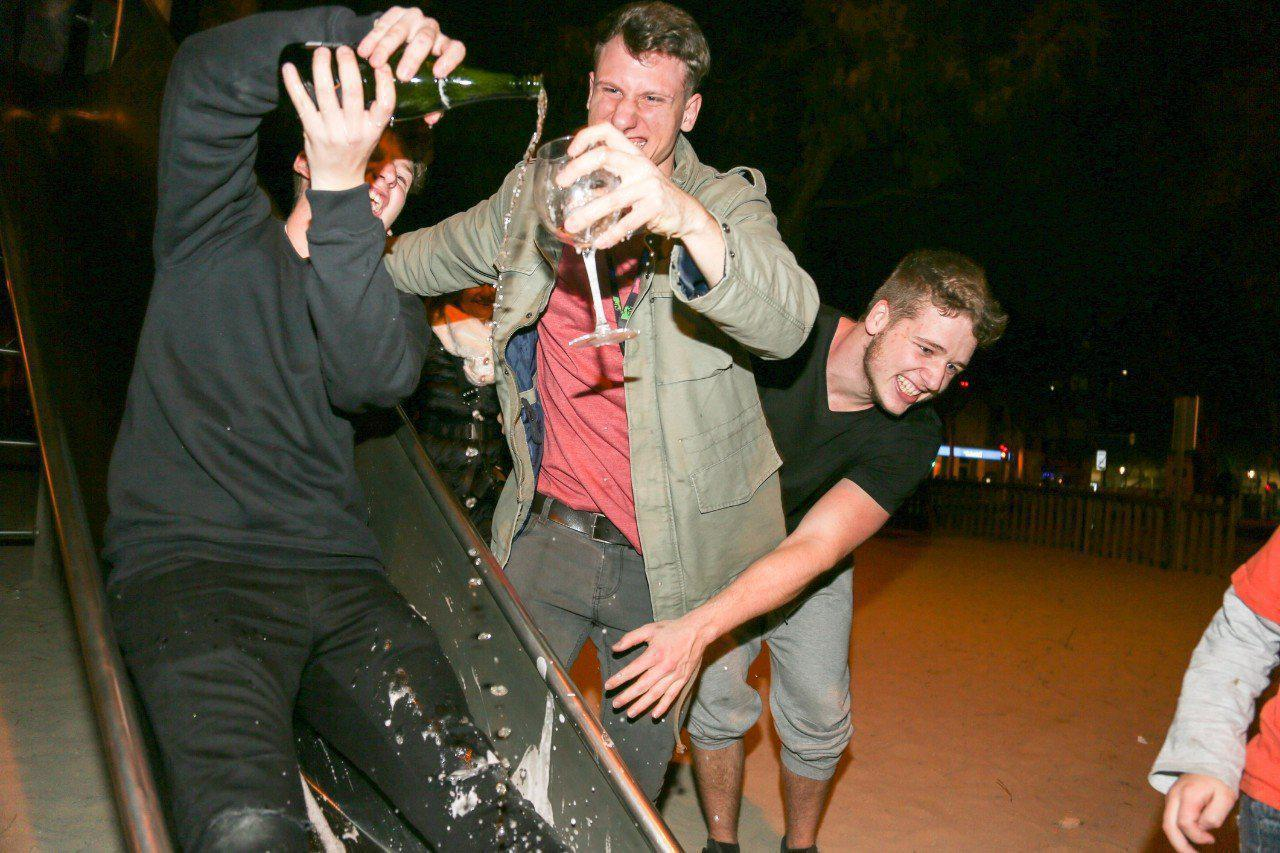Drunk: (589, 46, 683, 160), (875, 298, 969, 408)
